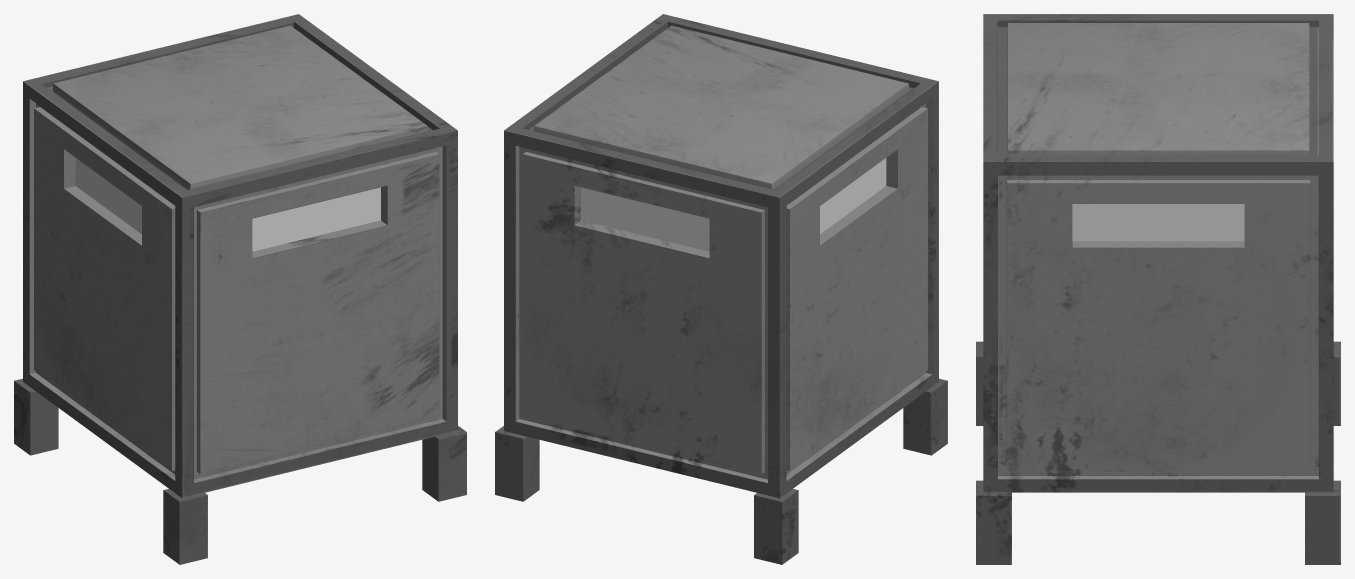
Rendered from Caixa1.fbx.
3 views of the same model, side by side, from view 1: azimuth 30°, elevation 25°; view 2: azimuth 150°, elevation 25°; view 3: azimuth 270°, elevation 25° (orthographic). The views are drawn at different scales.
Visible parts, largest first — view 1: Cube.006; view 2: Cube.006; view 3: Cube.006.
Part boxes in pixels (x1,y1,x2,y2): Cube.006: (14, 14, 466, 564); Cube.006: (495, 14, 947, 564); Cube.006: (976, 14, 1340, 564).
Size of the model in its own units: 146 by 177 by 146.
